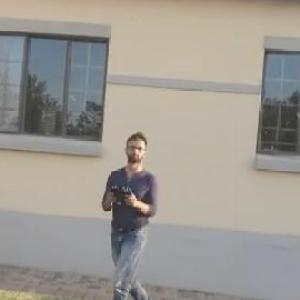follow: (86, 122, 158, 299)
